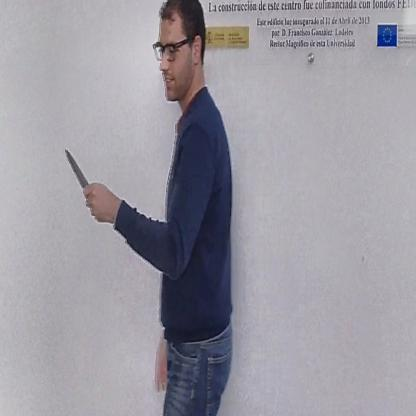knife: (61, 141, 101, 214)
